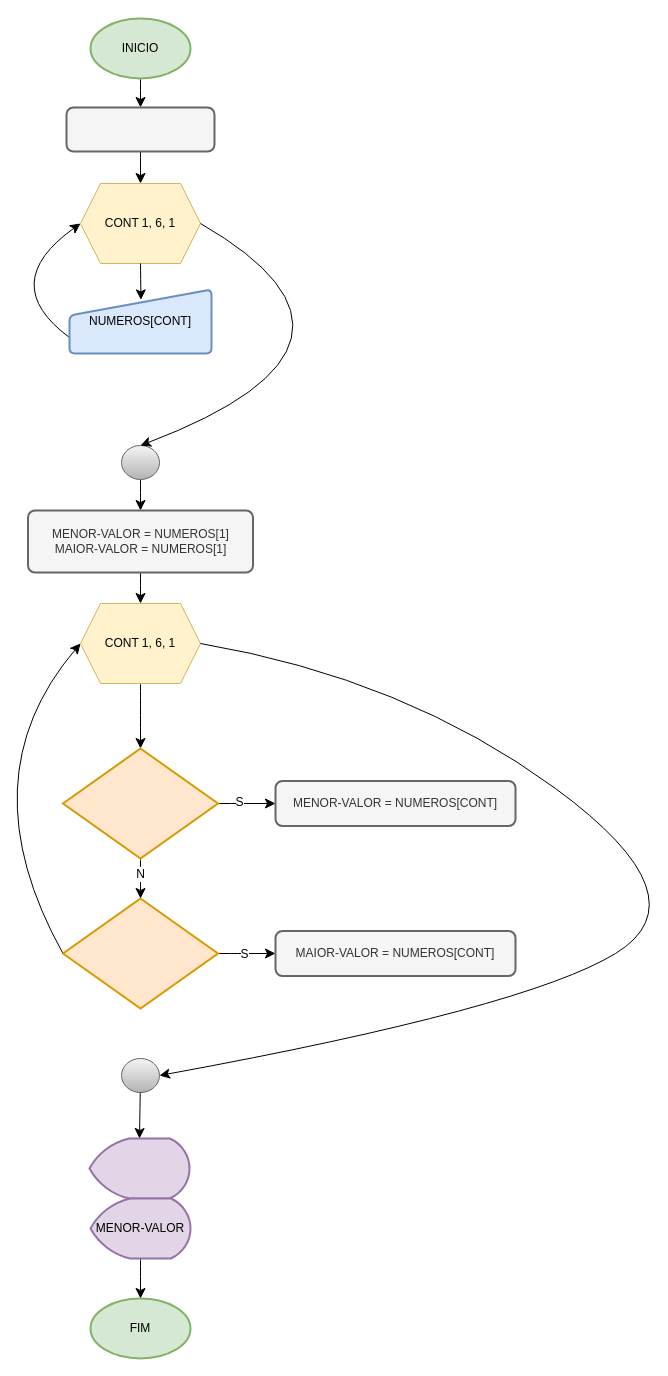
Image size: 668x1376. Some labels were removed from this diagram. Each missing label, with the centre of its shape:
"MAIOR-VALOR" belongs at (139,1168).
"MAIOR-VALOR < NUMEROS[CONT]" belongs at (140,953).
"MENOR-VALOR > NUMEROS[CONT]" belongs at (140,803).
"NUMEROS[6]" belongs at (140,129).
